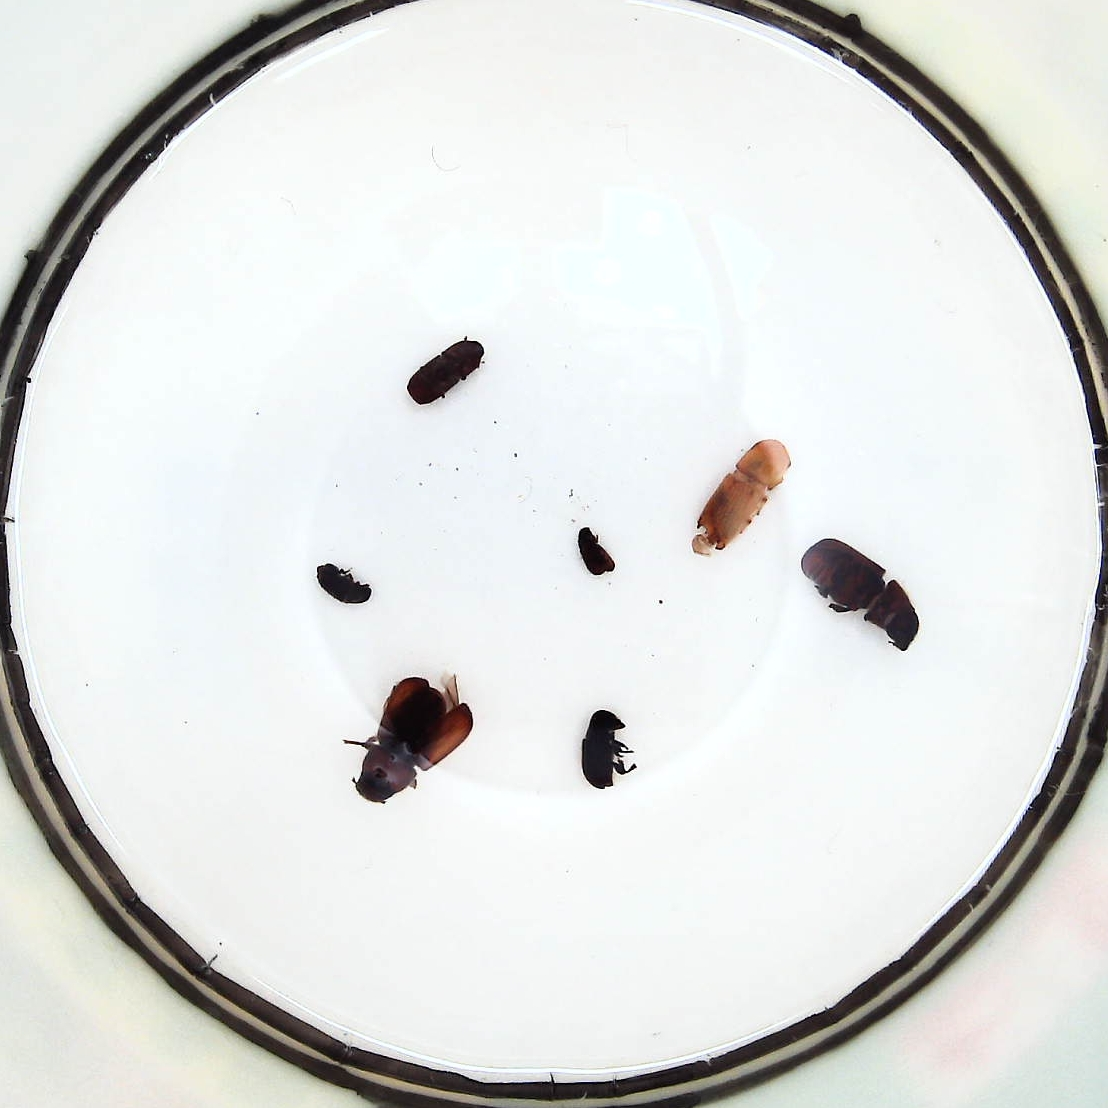Boerner: (691, 440, 791, 556)
Leconte: (344, 675, 473, 804), (802, 538, 918, 652)
acuminatus: (315, 562, 372, 604)
armandi: (581, 710, 637, 789)
coleoptera: (576, 527, 614, 576)
linnaeus: (407, 336, 483, 404)
